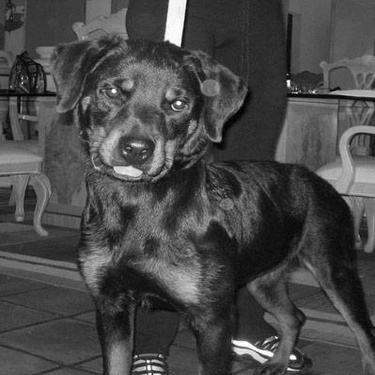dog: (41, 29, 368, 372)
